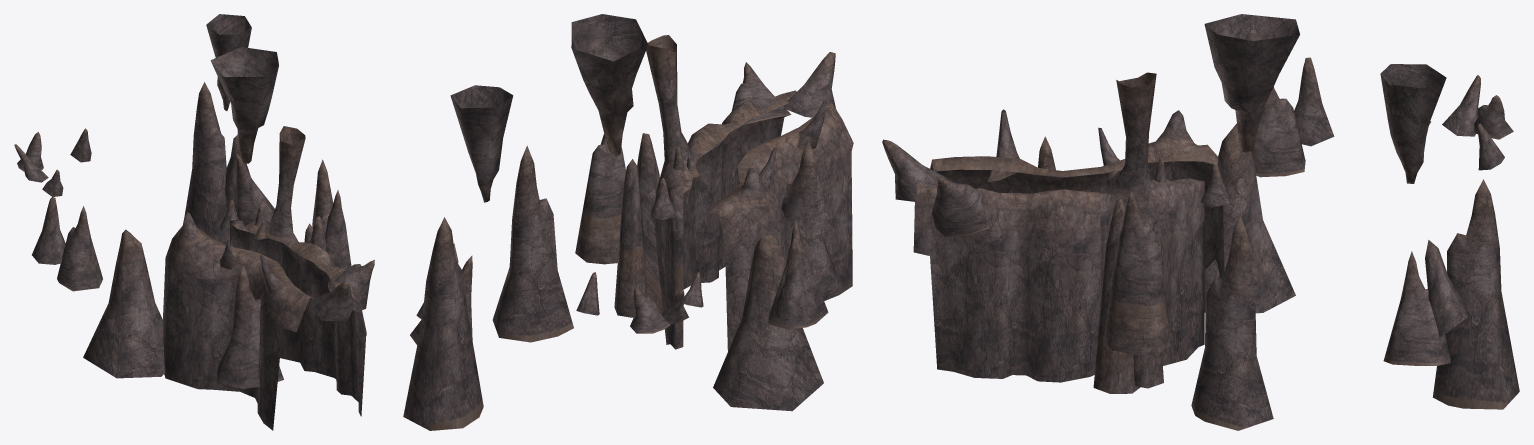
Rendered from dcfx4_yanshi_new.FBX.
3 views of the same model, side by side, from view 1: azimuth 30°, elevation 25°; view 2: azimuth 150°, elevation 25°; view 3: azimuth 270°, elevation 25° (orthographic). The views are drawn at different scales.
Visible parts, largest first — view 1: dcfx4_yanshi; view 2: dcfx4_yanshi; view 3: dcfx4_yanshi.
Part boxes in pixels (<box>): dcfx4_yanshi: <box>14,14,374,430</box>; dcfx4_yanshi: <box>403,14,853,430</box>; dcfx4_yanshi: <box>882,14,1519,430</box>.
Bounding box in the file's own units: 2344 × 2071 × 3405.
